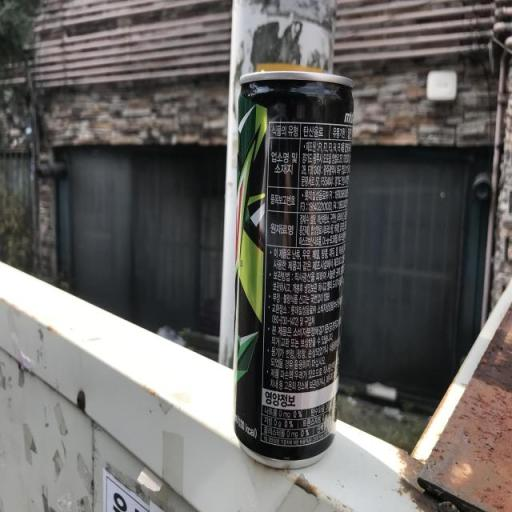metal: (203, 58, 383, 468)
